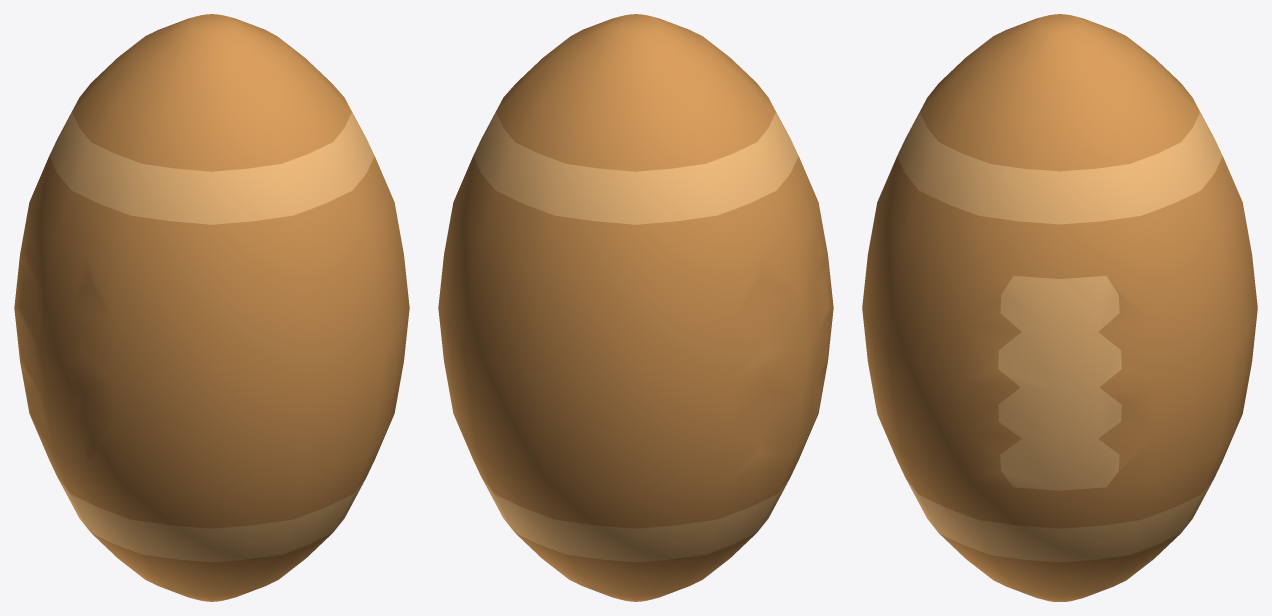
Rendered from AmericanFootball.fbx.
3 views of the same model, side by side, from view 1: azimuth 30°, elevation 25°; view 2: azimuth 150°, elevation 25°; view 3: azimuth 270°, elevation 25° (orthographic).
Parts seen in each view (by area): view 1: AmericanFootball; view 2: AmericanFootball; view 3: AmericanFootball.
Part boxes in pixels (bbox=[...]): AmericanFootball: bbox=[14, 14, 409, 601]; AmericanFootball: bbox=[438, 14, 833, 601]; AmericanFootball: bbox=[862, 14, 1257, 601].
Size of the model in its own units: 24.52 by 39.09 by 24.62.
